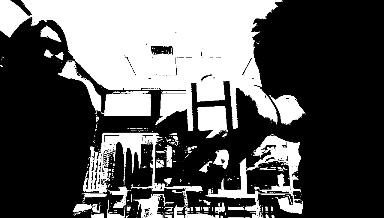H: (185, 78, 237, 131)
